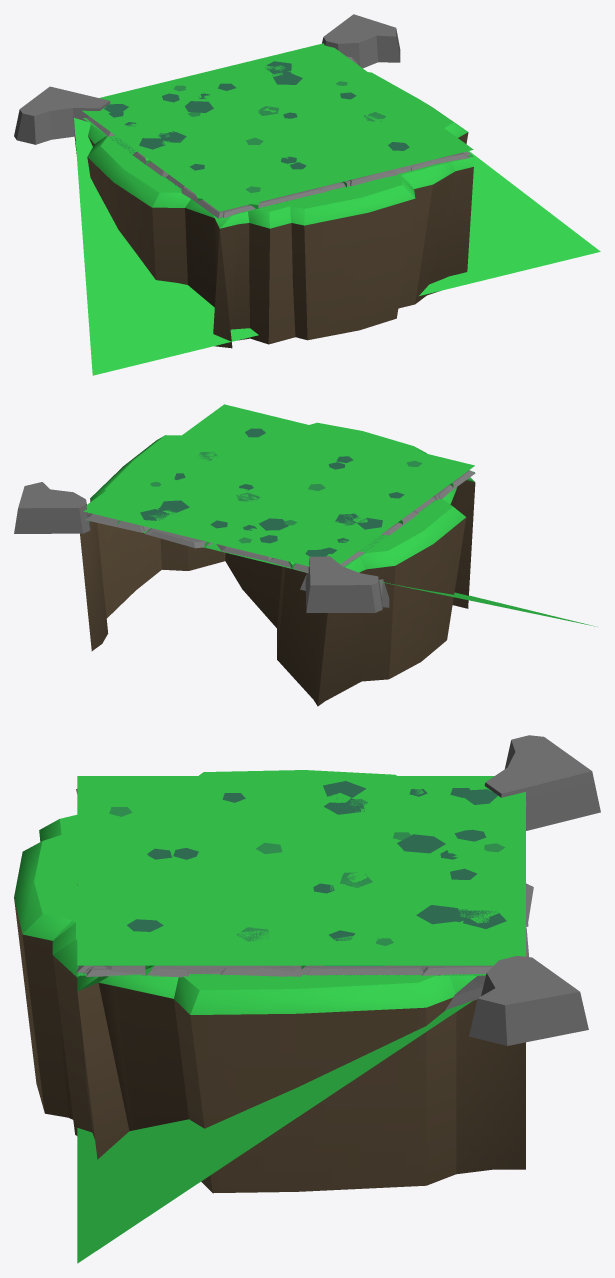
Rendered from Grass.glb.
3 views of the same model, one above another, from view 1: azimuth 30°, elevation 25°; view 2: azimuth 150°, elevation 25°; view 3: azimuth 270°, elevation 25° (orthographic). The views are drawn at different scales.
Visible parts, largest first — view 1: grass_grass_block_a, grass_block_d, grass_diagonal_support, ramp_left, ramp_right, grass_corner_b, grass_block_c, grass_center_a, grass_diagonal_a, grass_corner_a, grass_block_b, grass_diagonal_b (+7 smaller); view 2: grass_corner_b, grass_block_d, grass_center_a, grass_corner_a, grass_grass_block_a, grass_diagonal_support, grass_diagonal_b, grass_diagonal_a, ramp_left, grass_block_b, ramp_right, grass_center_f (+7 smaller); view 3: grass_corner_a, grass_block_d, grass_center_a, grass_grass_block_a, ramp_right, grass_block_b, grass_diagonal_a, grass_diagonal_support, grass_diagonal_b, ramp_left, grass_corner_b, grass_block_c (+7 smaller).
Part boxes in pixels (bbox=[...]): grass_grass_block_a: bbox=[106, 46, 470, 340]; grass_block_d: bbox=[107, 43, 473, 329]; grass_diagonal_support: bbox=[82, 44, 473, 348]; ramp_left: bbox=[14, 86, 219, 375]; ramp_right: bbox=[83, 14, 600, 344]; grass_corner_b: bbox=[74, 78, 413, 337]; grass_block_c: bbox=[172, 75, 473, 344]; grass_center_a: bbox=[120, 43, 473, 211]; grass_diagonal_a: bbox=[180, 45, 430, 136]; grass_corner_a: bbox=[123, 65, 468, 194]; grass_block_b: bbox=[115, 44, 400, 221]; grass_diagonal_b: bbox=[130, 46, 449, 132]; grass_corner_b: bbox=[183, 447, 466, 706]; grass_block_d: bbox=[84, 421, 454, 571]; grass_center_a: bbox=[84, 404, 474, 565]; grass_corner_a: bbox=[80, 435, 475, 651]; grass_grass_block_a: bbox=[90, 422, 452, 565]; grass_diagonal_support: bbox=[86, 405, 474, 571]; grass_diagonal_b: bbox=[90, 427, 327, 706]; grass_diagonal_a: bbox=[86, 426, 311, 566]; ramp_left: bbox=[300, 556, 597, 626]; grass_block_b: bbox=[83, 435, 451, 564]; ramp_right: bbox=[14, 482, 472, 596]; grass_center_f: bbox=[84, 470, 469, 573]; grass_corner_a: bbox=[98, 787, 525, 1193]; grass_block_d: bbox=[52, 776, 525, 1135]; grass_center_a: bbox=[77, 776, 525, 965]; grass_grass_block_a: bbox=[14, 776, 525, 1139]; ramp_right: bbox=[77, 956, 588, 1263]; grass_block_b: bbox=[131, 776, 525, 966]; grass_diagonal_a: bbox=[151, 833, 516, 964]; grass_diagonal_support: bbox=[77, 776, 525, 975]; grass_diagonal_b: bbox=[77, 807, 525, 1159]; ramp_left: bbox=[484, 735, 600, 830]; grass_corner_b: bbox=[54, 770, 500, 1119]; grass_block_c: bbox=[39, 797, 488, 968].
Size of the model in its own units: 4 by 1.08 by 2.62.
Materials: 2 (2 with a texture image).
